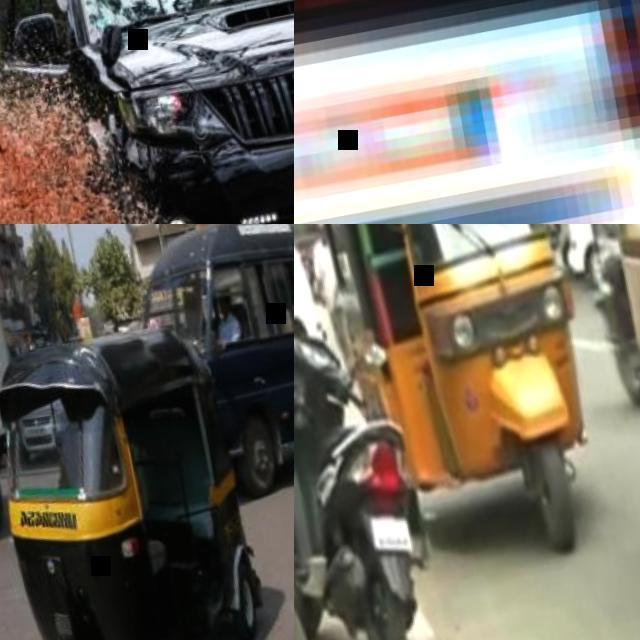car: (0, 320, 263, 639), (60, 0, 293, 217)
